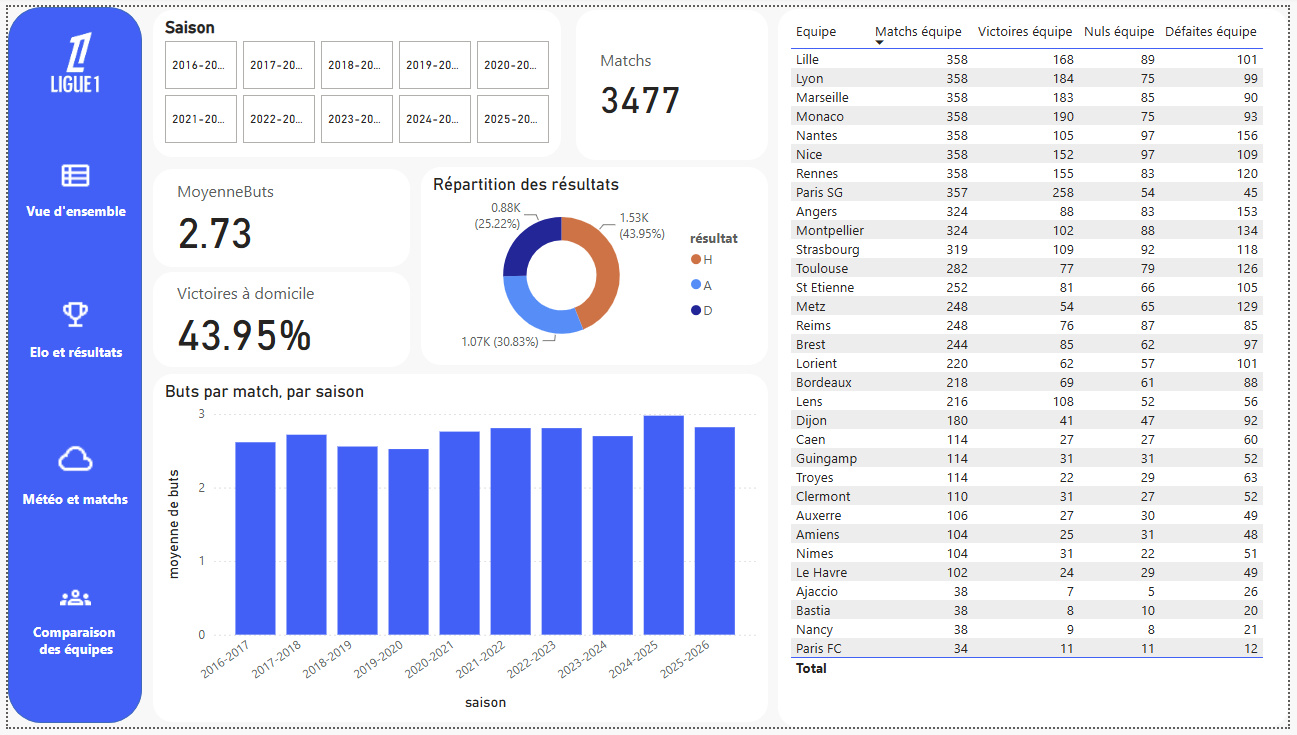

What the dashboard file says about the page in this screenshot:
{"tool":"powerbi","page":{"name":"Vue d'ensemble","canvas":[1280,720],"ordinal":0},"visuals":[{"type":"cardVisual","fields":{"Data":["public v_match_analysis.NbTotalMatch"]},"box":[568.3,3.3,191.7,150],"z":0},{"type":"cardVisual","fields":{"Data":["public v_match_analysis.NbSaison"]},"box":[295,161.7,106.7,98.3],"z":1000},{"type":"cardVisual","fields":{"Data":["public v_match_analysis.MoyenneButs"]},"box":[145,161.7,141.4,98.6],"z":2000},{"type":"donutChart","title":"Répartition des résultats","fields":{"Category":["public v_match_analysis.result"],"Y":["CountNonNull(public v_match_analysis.match_id)"]},"box":[413.3,160,346.7,198.3],"z":3000},{"type":"cardVisual","fields":{"Data":["public v_match_analysis.TauxVictoireDomicile"]},"box":[145,265,256.7,95],"z":4000},{"type":"columnChart","fields":{"Category":["public v_match_analysis.season"],"Y":["public v_match_analysis.TotalButs"]},"box":[145,366.7,615,348.3],"z":5000},{"type":"shape","box":[0,0,134.3,715.7],"z":6000},{"type":"image","box":[20,1.4,94.3,107.1],"z":7000},{"type":"advancedSlicerVisual","fields":{"Values":["public v_match_analysis.season"]},"box":[145,3.3,408,146.2],"z":8000},{"type":"tableEx","fields":{"Values":["Equipes.Equipe","Equipes.Matchs équipe","Equipes.Victoires équipe","Equipes.Nuls équipe","Equipes.Défaites équipe"]},"box":[770,1.7,510,718.3],"z":9000}]}

Visuals, with their boxes on the page's 1280x720 design canvas (x1, y1, x2, y2). These are canvas units, not pixel positions in the 1297x735 screenshot, which may show the page scaled, cropped or inside an application window:
cardVisual - public v_match_analysis.NbTotalMatch: {"x1": 568, "y1": 3, "x2": 760, "y2": 153}
cardVisual - public v_match_analysis.NbSaison: {"x1": 295, "y1": 162, "x2": 402, "y2": 260}
cardVisual - public v_match_analysis.MoyenneButs: {"x1": 145, "y1": 162, "x2": 286, "y2": 260}
"Répartition des résultats" donutChart: {"x1": 413, "y1": 160, "x2": 760, "y2": 358}
cardVisual - public v_match_analysis.TauxVictoireDomicile: {"x1": 145, "y1": 265, "x2": 402, "y2": 360}
columnChart - public v_match_analysis.season x public v_match_analysis.TotalButs: {"x1": 145, "y1": 367, "x2": 760, "y2": 715}
shape: {"x1": 0, "y1": 0, "x2": 134, "y2": 716}
image: {"x1": 20, "y1": 1, "x2": 114, "y2": 108}
advancedSlicerVisual - public v_match_analysis.season: {"x1": 145, "y1": 3, "x2": 553, "y2": 150}
tableEx - Equipes.Equipe x Equipes.Matchs équipe: {"x1": 770, "y1": 2, "x2": 1280, "y2": 720}
